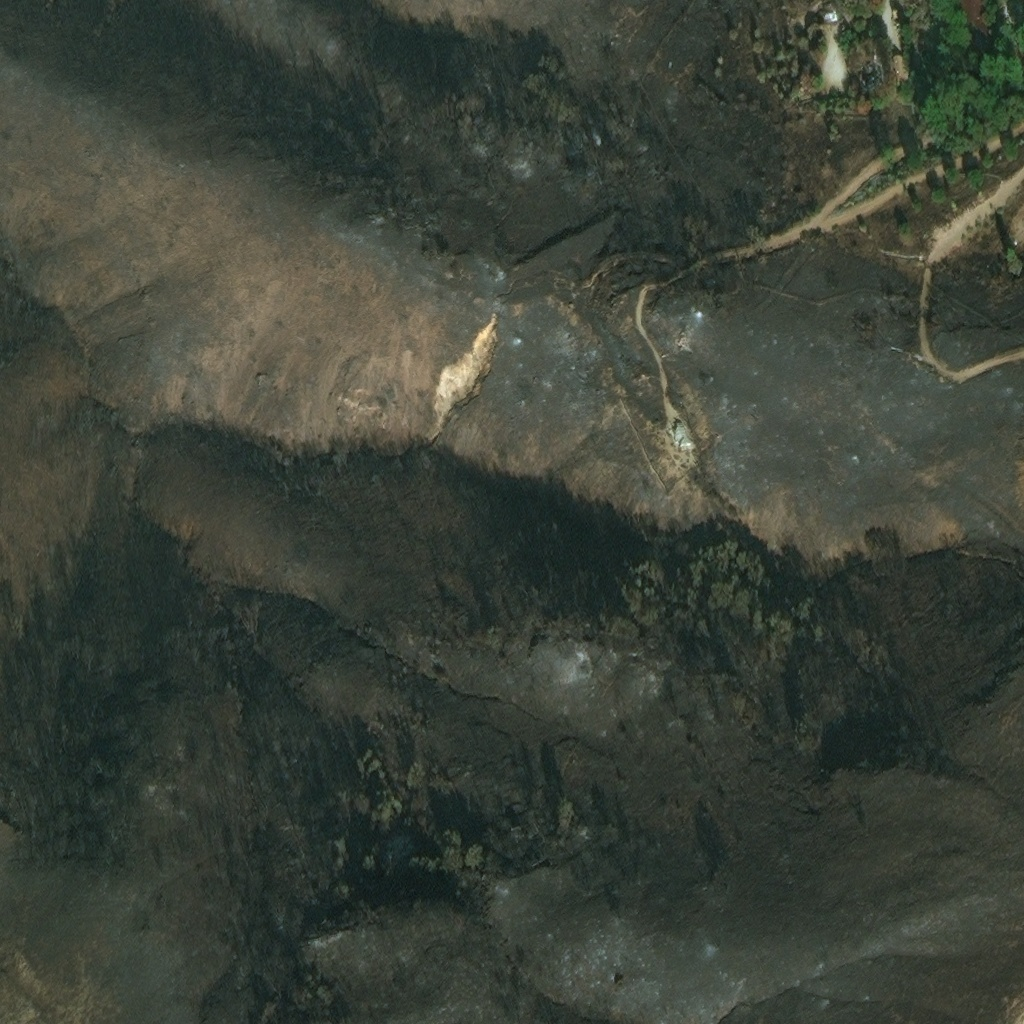1 minor-damage: (669, 423, 691, 446)
3 destroyed: (860, 58, 883, 87)
4 un-classified: (959, 0, 1001, 47)
